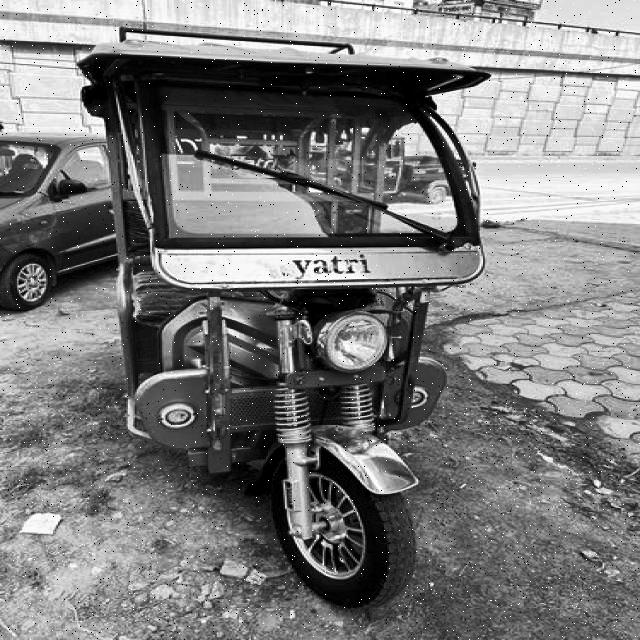Toto: (82, 31, 502, 615)
